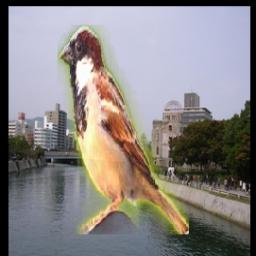Sparrow: (59, 26, 190, 235)
